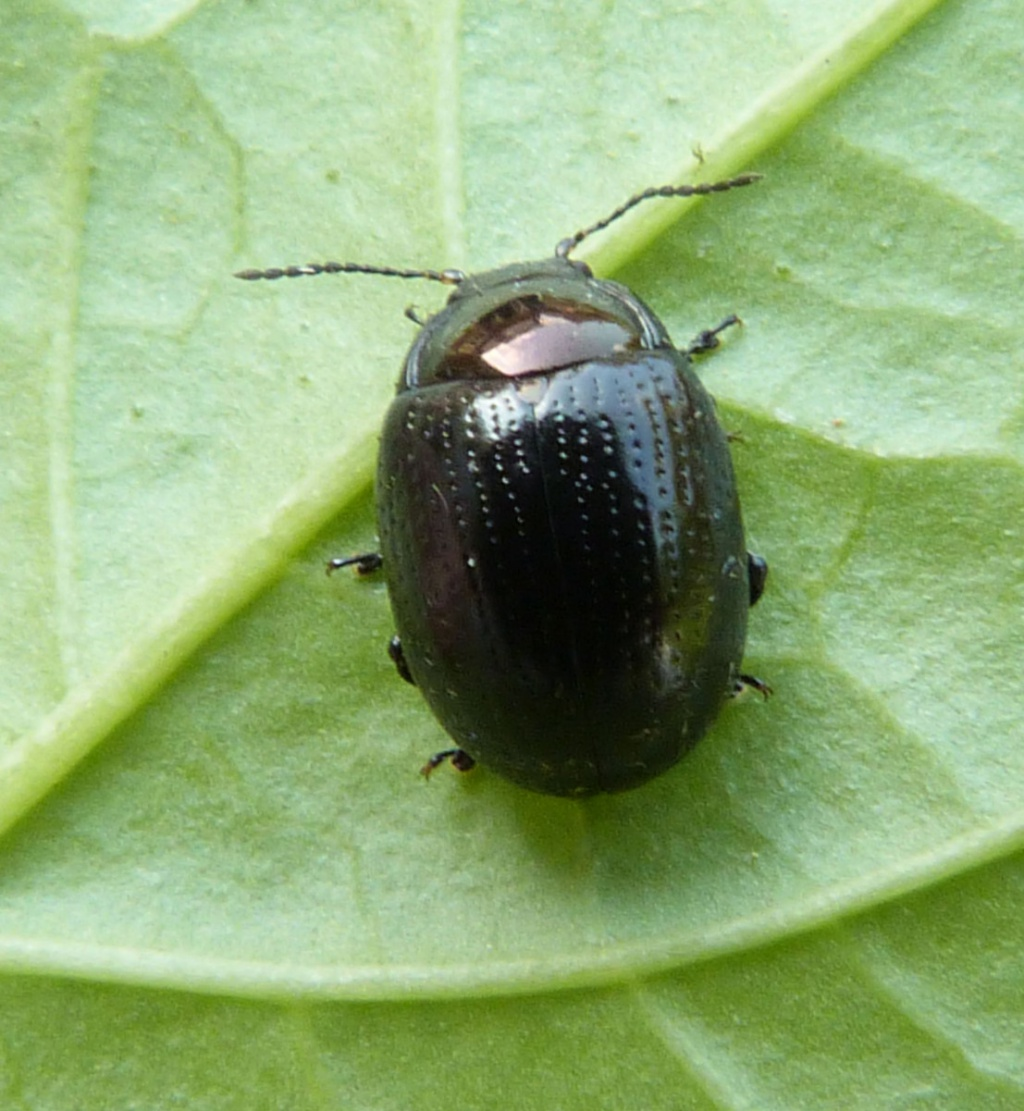Chrysolina_oricalcia: (229, 171, 774, 798)
